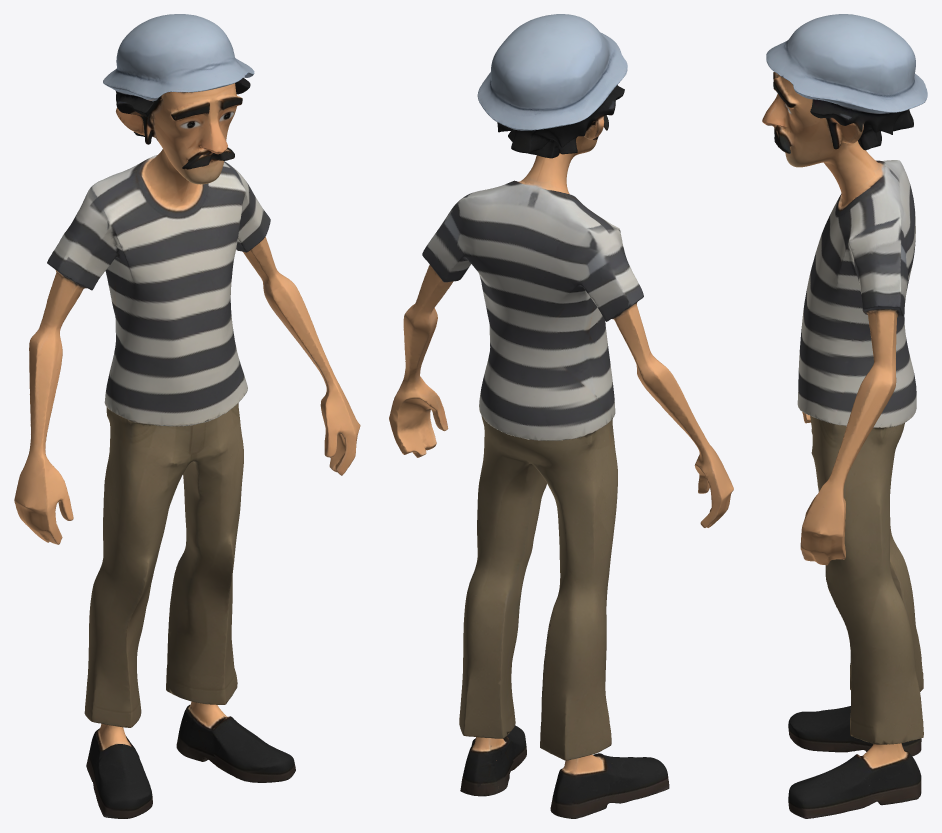
File: Meshy_AI_The_Striped_Wanderer_1022141954_texture.glb
3 renders of one model, left to right at view 1: azimuth 30°, elevation 25°; view 2: azimuth 150°, elevation 25°; view 3: azimuth 270°, elevation 25°, orthographic.
Size of the model in its own units: 0.8786 by 1.9 by 0.3791.
Materials: 1 (1 with a texture image).
